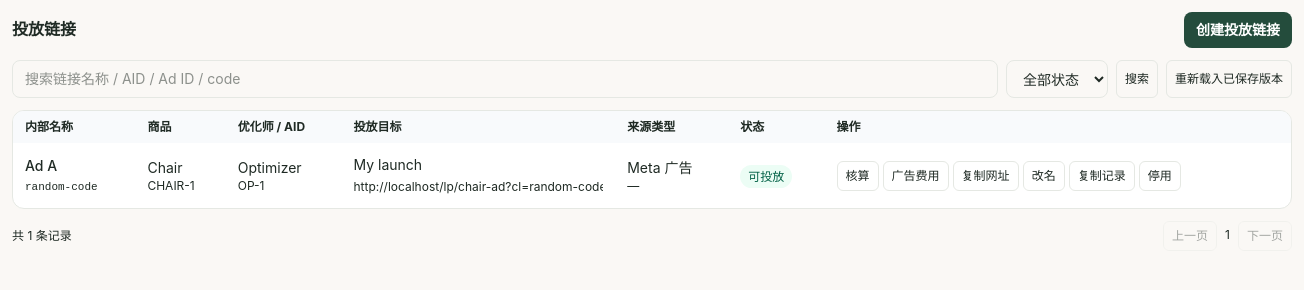
Test: persisted campaign links › retains a selectable saved URL when the clipboard is unavailable
Expected: the text "Ad A" is shown, [25,157,57,174]
Click the button "复制网址" at (986, 176), box [953,160,1019,190]
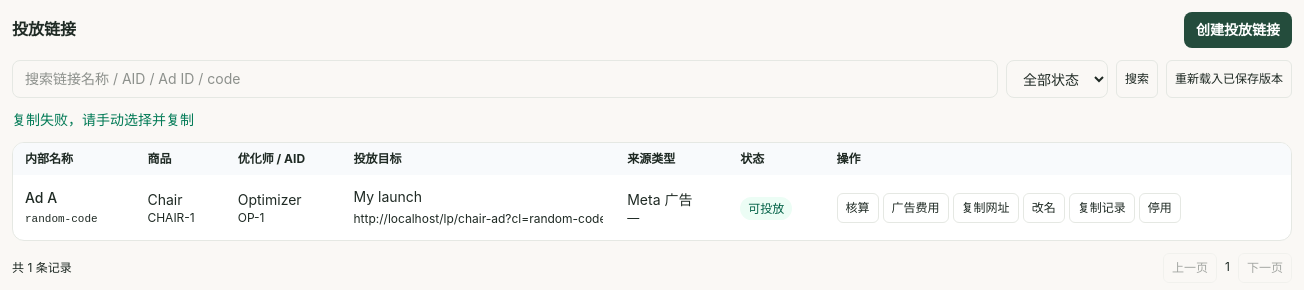
Now the text "复制失败，请手动选择并复制" is shown, box [12,111,194,128]
